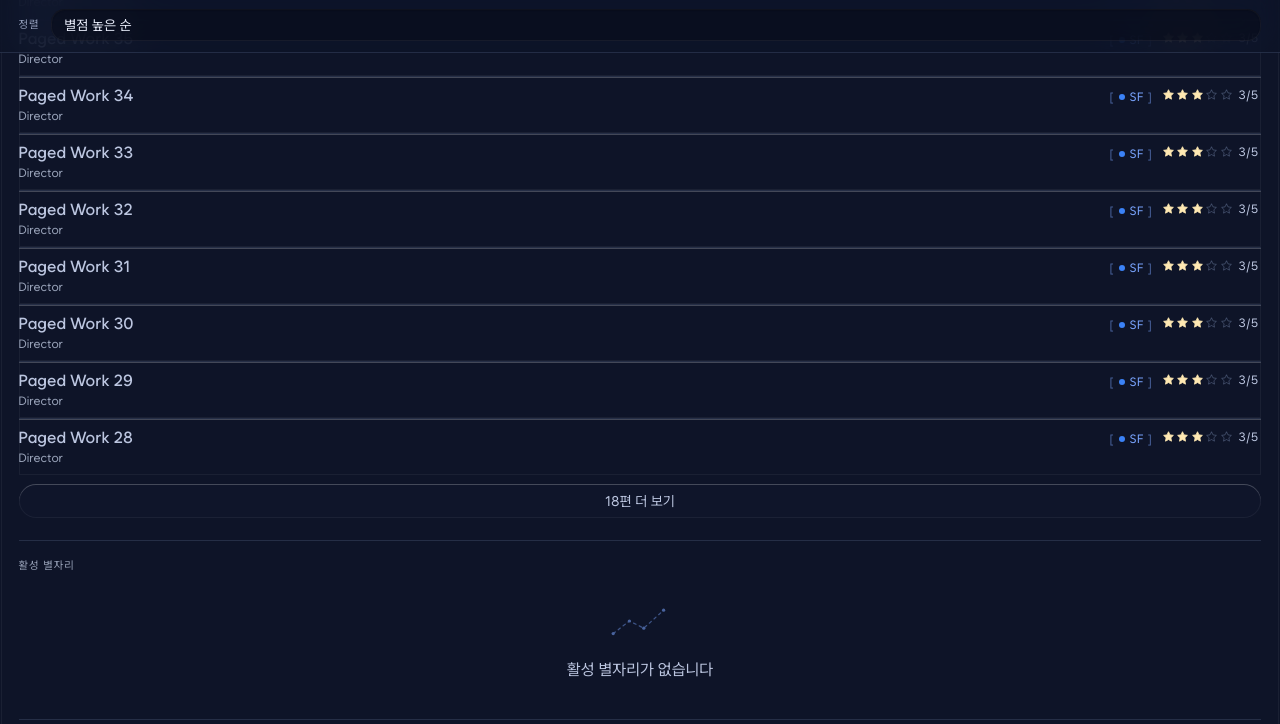
HUD, AchievementPanel, GenreFilter and ListView › starts a new search from the top of the list
The image size is (1280, 724).
(page scrolled)
Click the button "18편 더 보기" at (640, 501), box [19,484,1261,518]
(page scrolled)
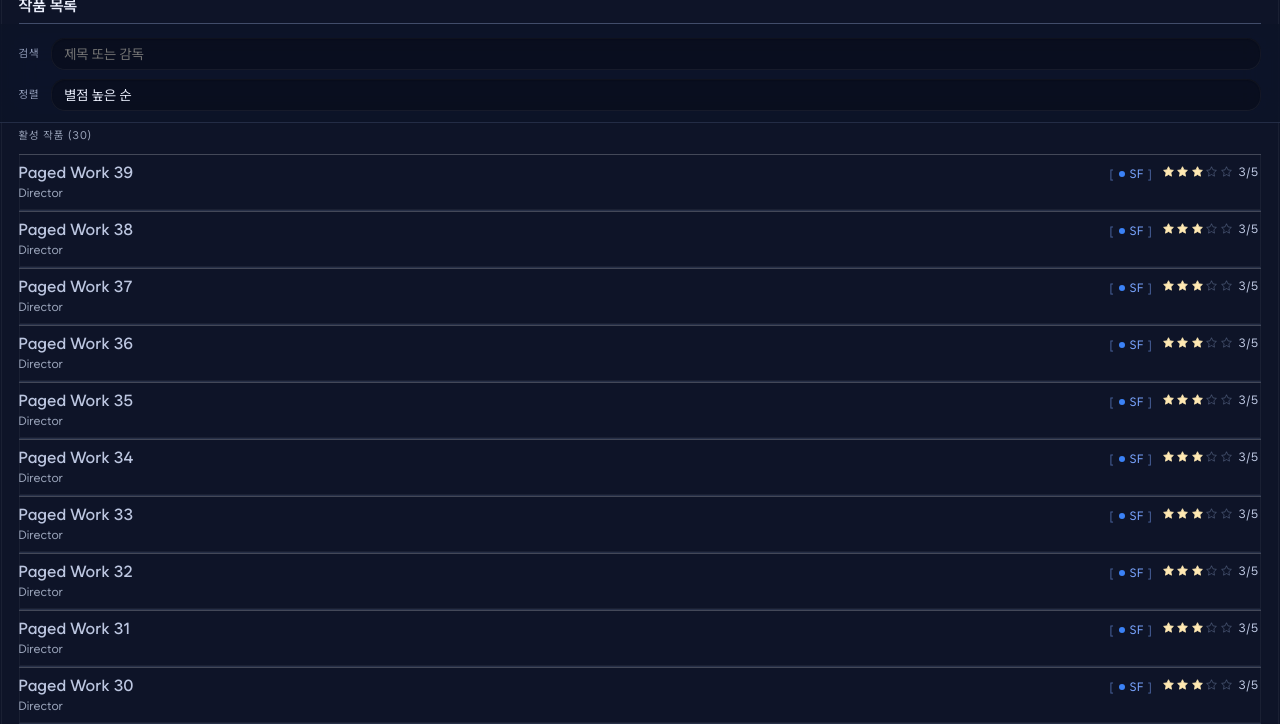
A different list should not inherit how far the previous one was opened.
Type "Paged" into the search field labelled "검색" at (656, 54), box [51,38,1261,70]
(page scrolled)
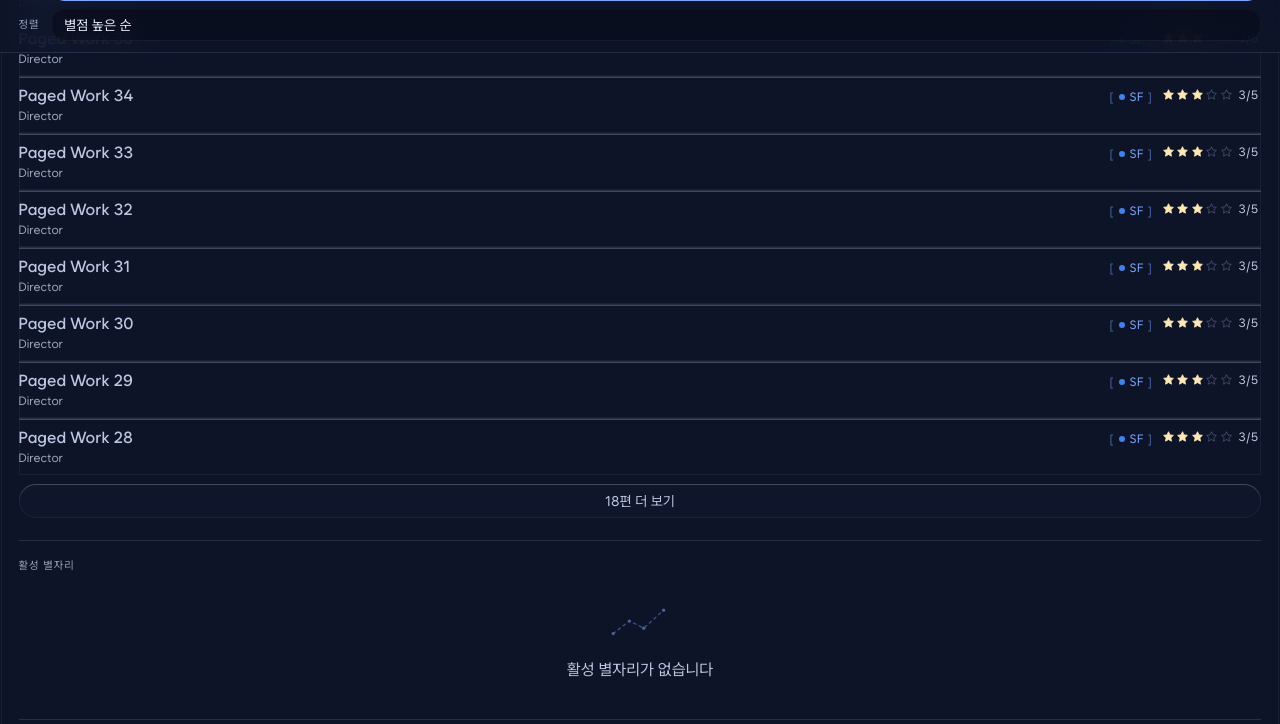
expect the button "18편 더 보기" is shown: met, box [19,484,1261,518]
